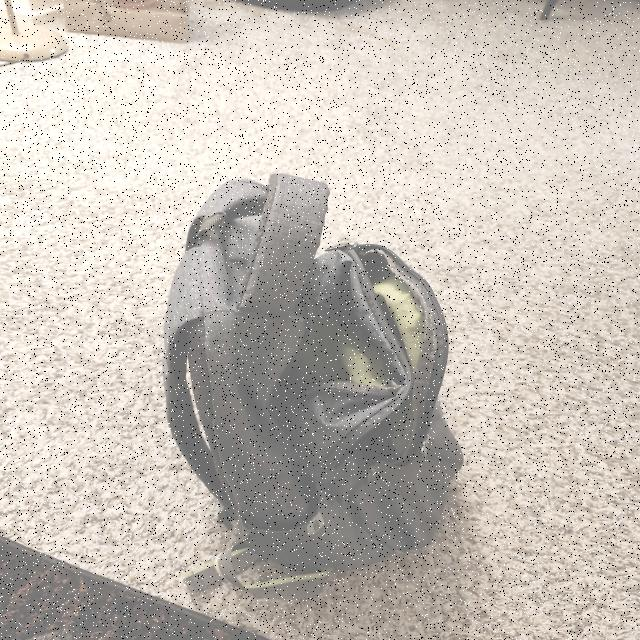bag: (158, 174, 480, 578)
